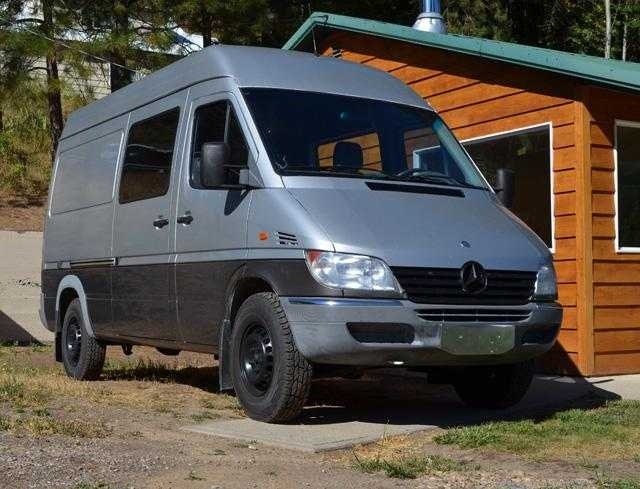van: (39, 43, 563, 425)
